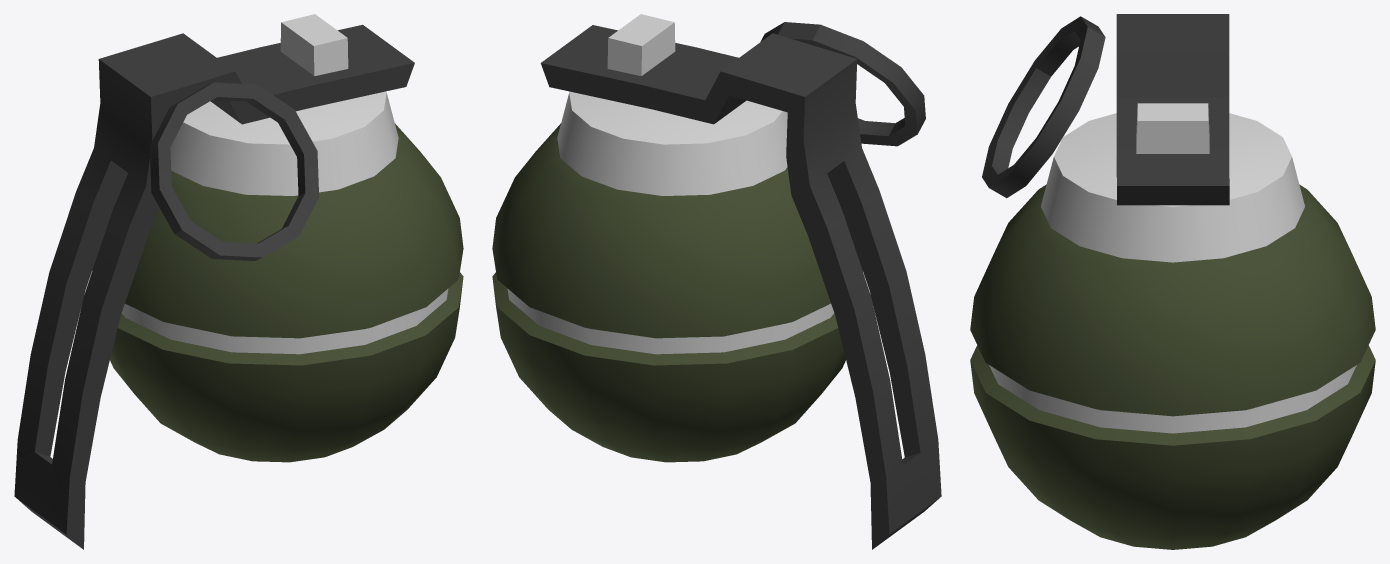
Rendered from frag.glb.
3 views of the same model, side by side, from view 1: azimuth 30°, elevation 25°; view 2: azimuth 150°, elevation 25°; view 3: azimuth 270°, elevation 25° (orthographic). The views are drawn at different scales.
Visible parts, largest first — view 1: item_frag; view 2: item_frag; view 3: item_frag.
Boxes of the visible parts, x1=… form: item_frag: x1=14, y1=14, x2=463, y2=549; item_frag: x1=492, y1=14, x2=941, y2=549; item_frag: x1=970, y1=14, x2=1375, y2=549.
Size of the model in its own units: 0.1025 by 0.11 by 0.0834.
